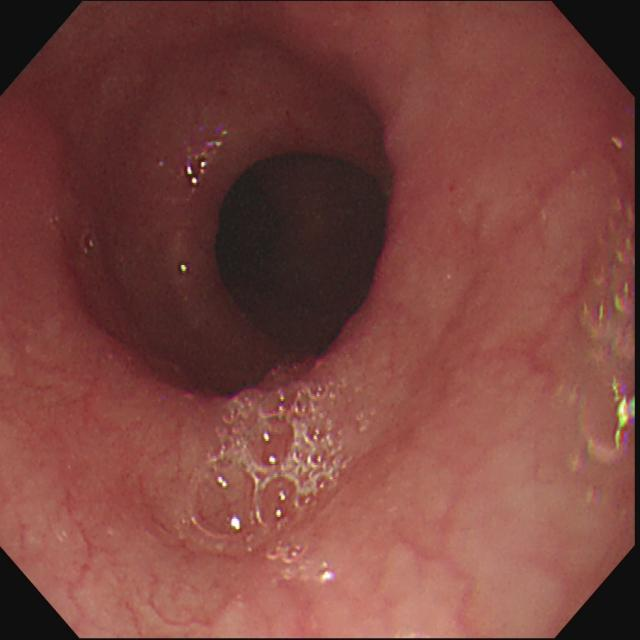E: (208, 141, 394, 356)
T: (188, 362, 347, 542)
U: (596, 235, 637, 456), (179, 129, 227, 198), (316, 561, 339, 583)
